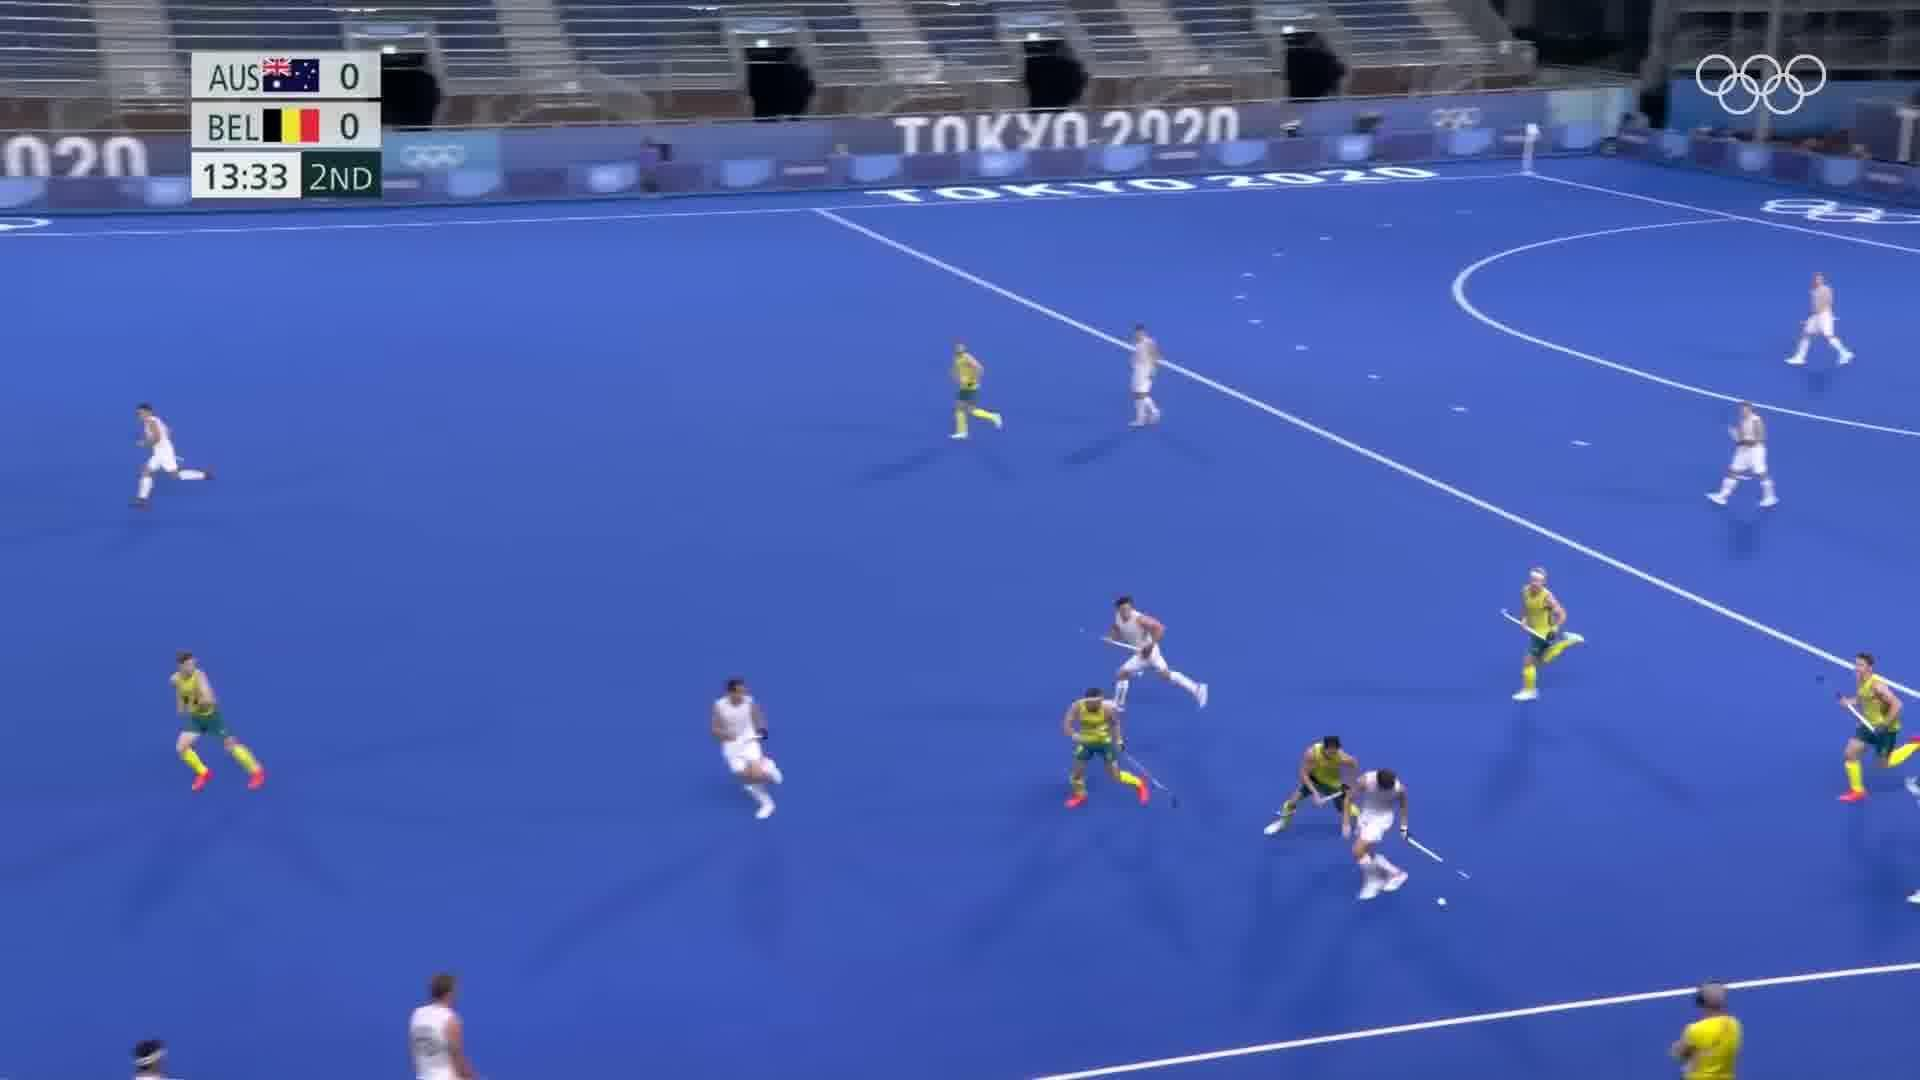ball: (1432, 891, 1456, 913)
